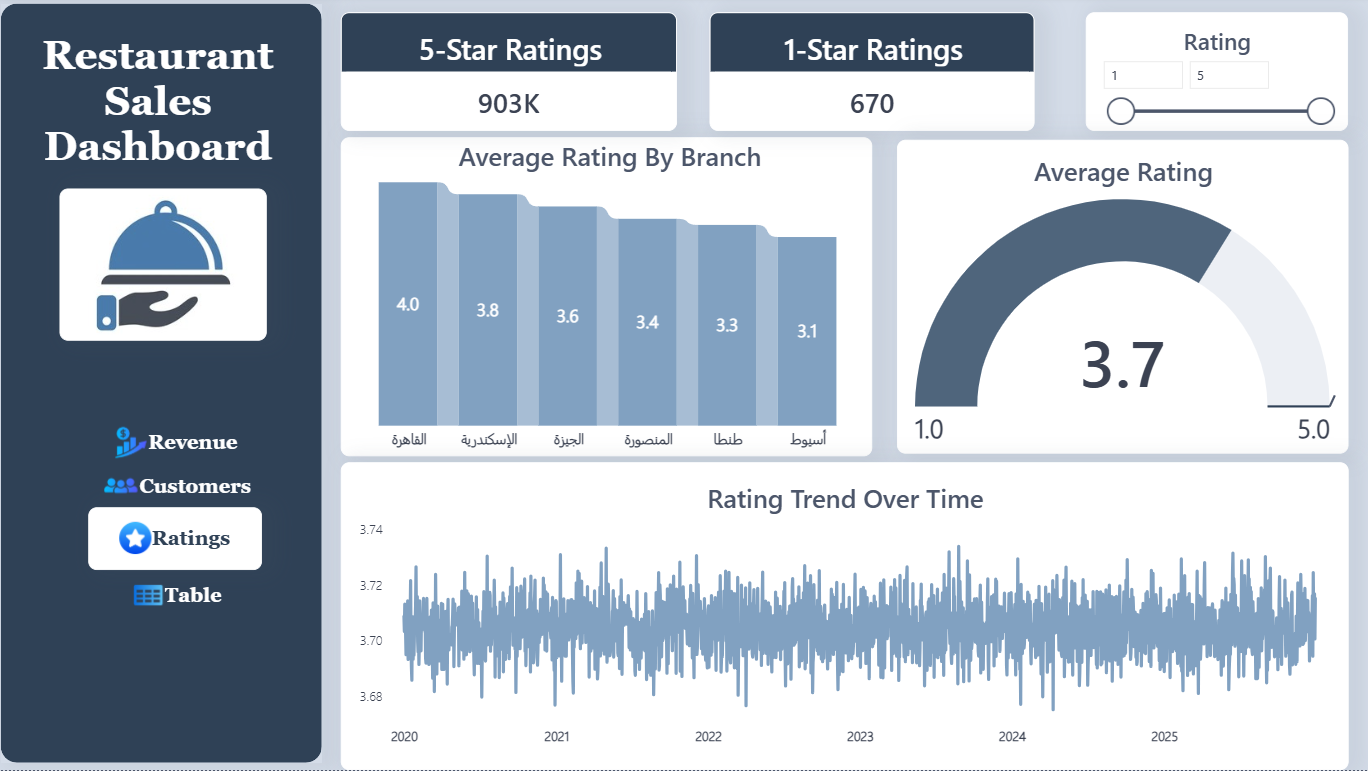

The page's visual inventory and layout, read from the dashboard file:
{"tool":"powerbi","page":{"name":"Ratings","canvas":[1280,720],"ordinal":2},"visuals":[{"type":"shape","box":[8.6,7.4,298.8,706.2],"z":0},{"type":"image","box":[62.8,179.1,193,141.9],"z":1000},{"type":"textbox","title":"Restaurant Sales & Performance Dashboard","box":[18.6,31.4,255.8,140.7],"z":2000},{"type":"slicer","title":"Rating","fields":{"Values":["fullrestaurant.rating"]},"box":[1017.4,15.1,244.2,110.5],"z":3000},{"type":"ribbonChart","title":"Average Rating By Branch","fields":{"Category":["fullrestaurant.branch"],"Y":["Measures_table.Average Rating"]},"box":[324.4,131.4,494.2,296.5],"z":4000},{"type":"cardVisual","title":"1-Star Ratings","fields":{"Data":["Measures_table.1star rating"]},"box":[667.4,15.1,302.3,110.5],"z":5000},{"type":"gauge","title":"Average Rating","fields":{"MinValue":["Measures_table.minvalue"],"Y":["Measures_table.Average Rating"],"TargetValue":["Measures_table.Target_rating"],"MaxValue":["Measures_table.maxvalue"]},"box":[841.9,133.7,419.8,291.9],"z":6000},{"type":"lineChart","title":"Rating Trend Over Time","fields":{"Category":["fullrestaurant.order_date"],"Y":["Measures_table.Average Rating"]},"box":[324.4,433.7,937.2,286],"z":7000},{"type":"cardVisual","title":"5-Star Ratings","fields":{"Data":["Measures_table.5stars"]},"box":[324.4,15.1,312.8,110.5],"z":8000},{"type":"actionButton","title":"Customers","box":[76.5,426.9,189.5,58.1],"z":9000},{"type":"actionButton","title":"Customers","box":[89.5,386,161.6,58.1],"z":10000},{"type":"actionButton","title":"Customers","box":[89.5,527.9,165.1,59.3],"z":11000},{"type":"actionButton","title":"Customers","box":[90,476,161.6,58.1],"z":12000}]}

Visuals, with their boxes in screenshot pixels (x1, y1, x2, y2), scaled from the page's 1280x720 canvas onto the 1368x771 screenshot:
shape: [x1=9, y1=8, x2=329, y2=764]
image: [x1=67, y1=192, x2=273, y2=344]
"Restaurant Sales & Performance Dashboard" textbox: [x1=20, y1=34, x2=293, y2=184]
"Rating" slicer: [x1=1087, y1=16, x2=1348, y2=134]
"Average Rating By Branch" ribbonChart: [x1=347, y1=141, x2=875, y2=458]
"1-Star Ratings" cardVisual: [x1=713, y1=16, x2=1036, y2=134]
"Average Rating" gauge: [x1=900, y1=143, x2=1348, y2=456]
"Rating Trend Over Time" lineChart: [x1=347, y1=464, x2=1348, y2=770]
"5-Star Ratings" cardVisual: [x1=347, y1=16, x2=681, y2=134]
"Customers" actionButton: [x1=82, y1=457, x2=284, y2=519]
"Customers" actionButton: [x1=96, y1=413, x2=268, y2=476]
"Customers" actionButton: [x1=96, y1=565, x2=272, y2=629]
"Customers" actionButton: [x1=96, y1=510, x2=269, y2=572]
